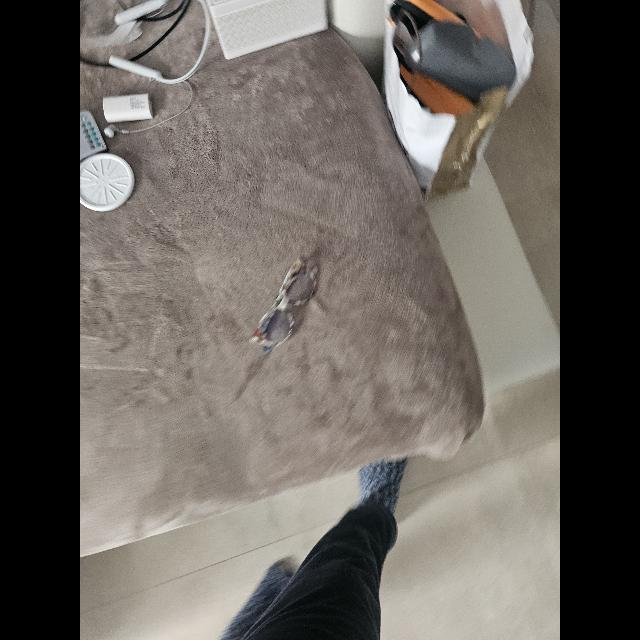glasses: (250, 258, 318, 354)
